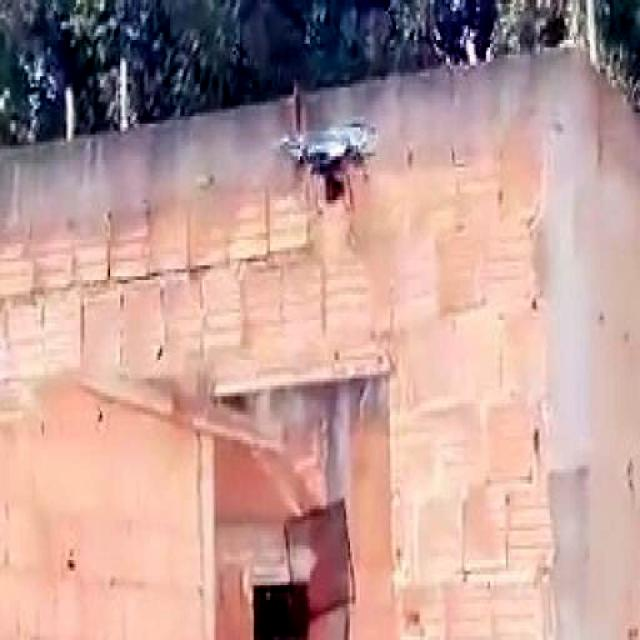bird: (270, 108, 379, 212)
